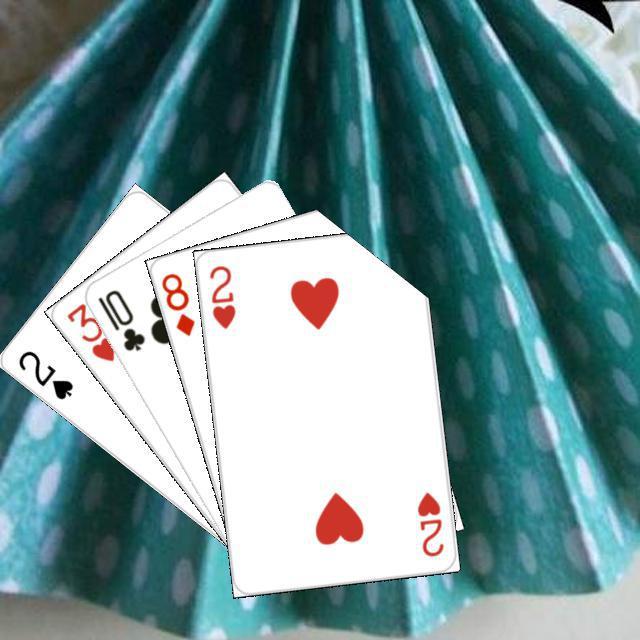10c: (93, 284, 147, 353)
2h: (204, 260, 238, 330), (412, 487, 445, 559)
2s: (13, 345, 75, 402)
3h: (61, 298, 117, 363)
8d: (156, 268, 197, 338)
